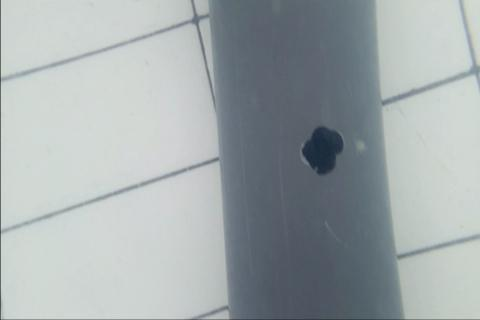kebocoran: (299, 123, 346, 177)
